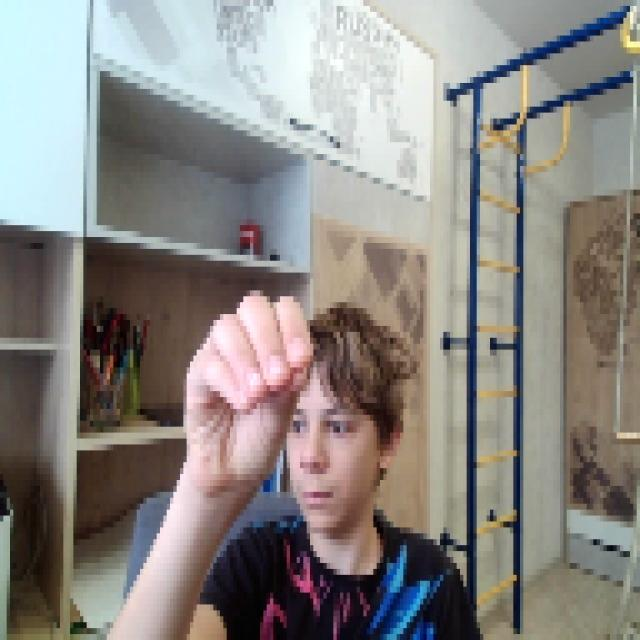left_click: (177, 278, 310, 486)
